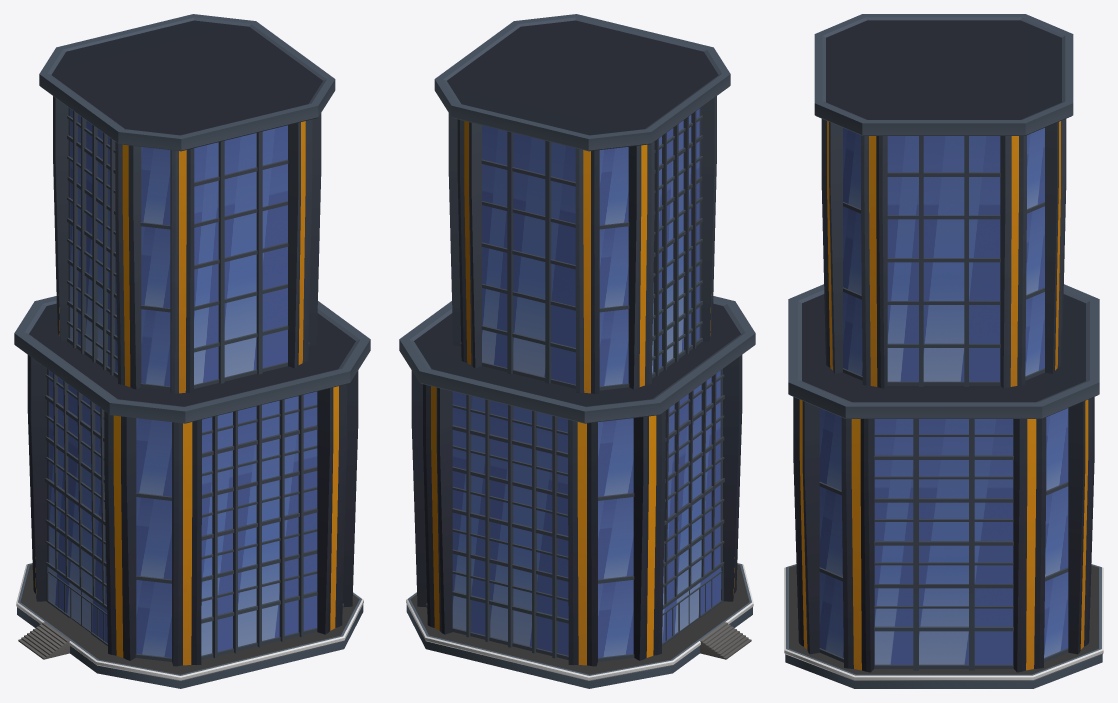
Rendered from Building_7_2_D.fbx.
The picture shows the model from 3 angles, left to right: view 1: azimuth 30°, elevation 25°; view 2: azimuth 150°, elevation 25°; view 3: azimuth 270°, elevation 25°; orthographic projection. The views are drawn at different scales.
Parts seen in each view (by area): view 1: Building_7_2_D; view 2: Building_7_2_D; view 3: Building_7_2_D.
Boxes of the visible parts, x1,y1,x2,y2 form: Building_7_2_D: (14, 14, 370, 688); Building_7_2_D: (399, 14, 755, 688); Building_7_2_D: (784, 14, 1103, 688).
Bounding box in the file's own units: 2520 × 4418 × 2311.
